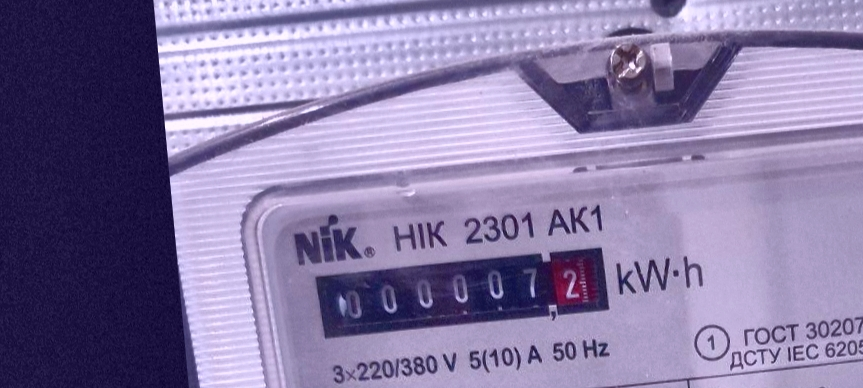0: (411, 273, 438, 313), (341, 284, 366, 321), (483, 264, 507, 302), (449, 269, 472, 308), (378, 279, 401, 316)
2: (559, 264, 583, 302)
7: (519, 262, 543, 302)
screen: (309, 238, 619, 346)
